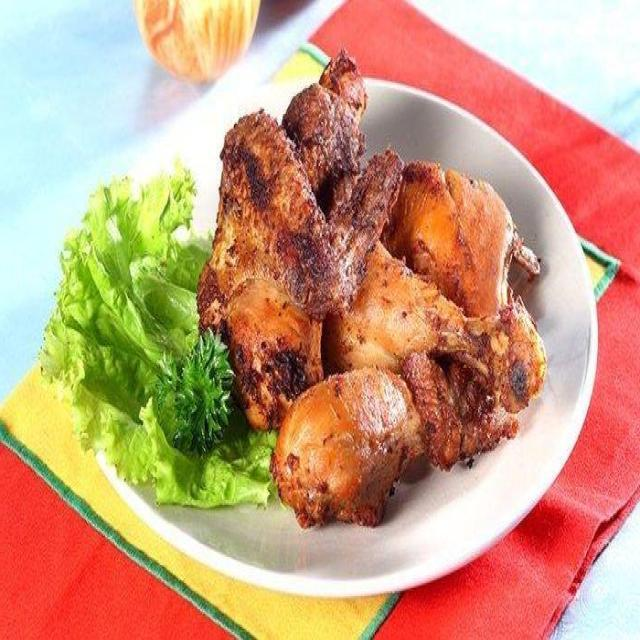ayam_goreng: (192, 49, 537, 539)
